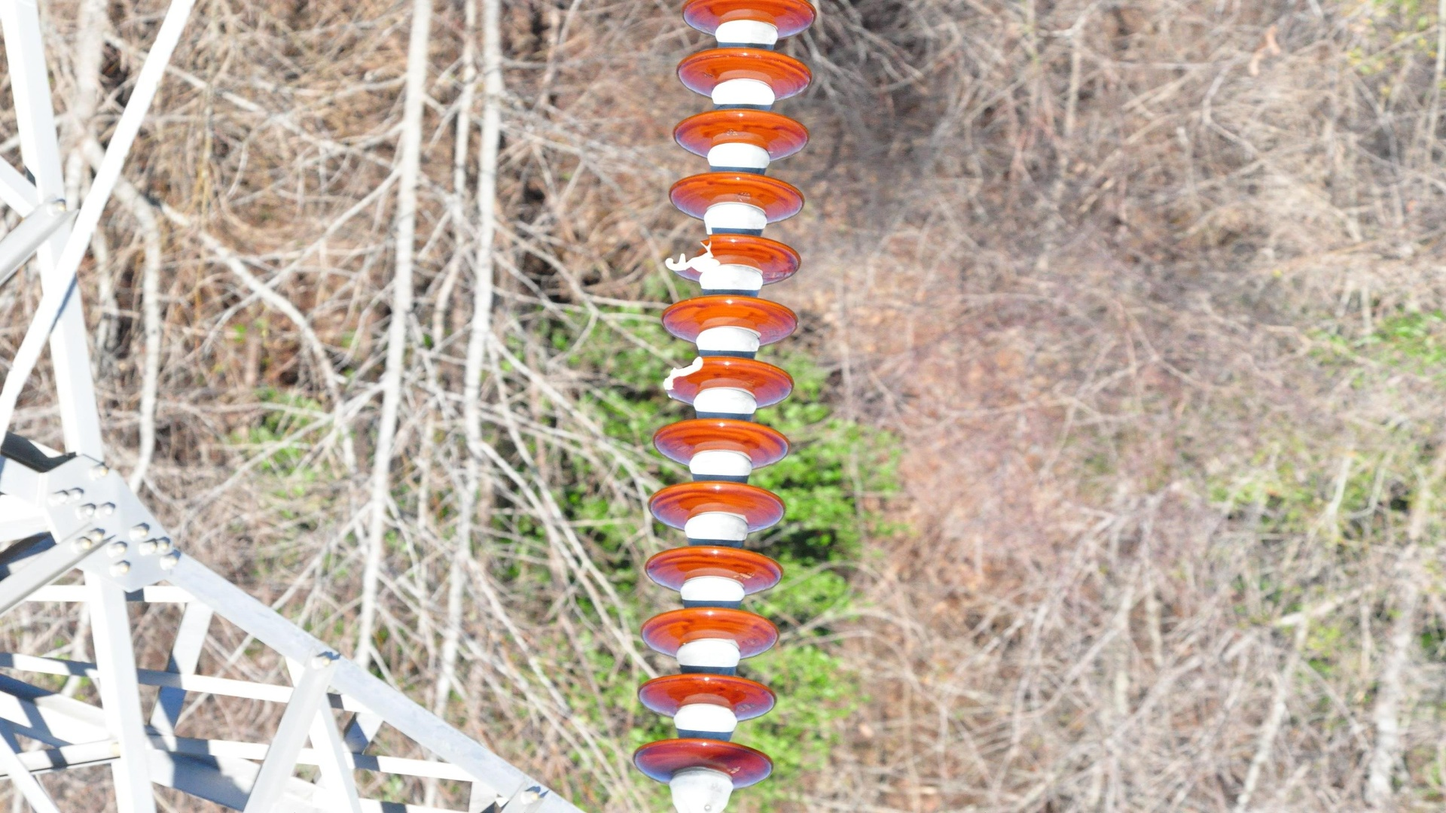insulator: (626, 1, 822, 792)
insulator_breakage: (662, 236, 724, 273), (660, 352, 707, 400)
